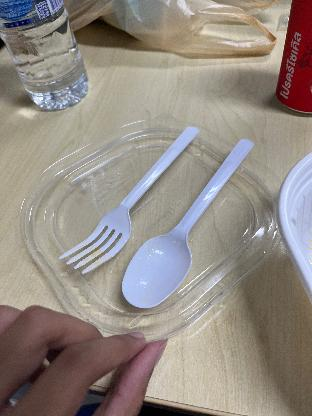Others: (115, 138, 260, 310), (54, 122, 198, 274)
